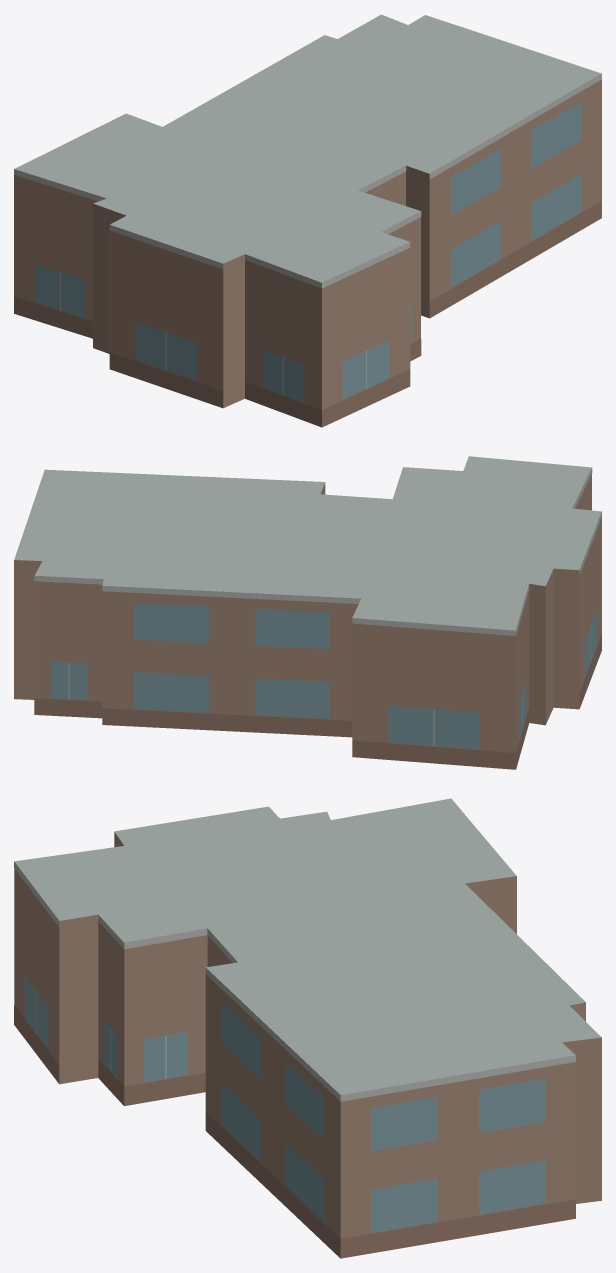
File: survey-upis-32848103.glb
3 renders of one model, top to bottom at view 1: azimuth 30°, elevation 25°; view 2: azimuth 150°, elevation 25°; view 3: azimuth 270°, elevation 25°, orthographic. The views are drawn at different scales.
Visible parts, largest first — view 1: survey-upis-32848103.tmp; view 2: survey-upis-32848103.tmp; view 3: survey-upis-32848103.tmp.
Part boxes in pixels (x1,y1,x2,y2): survey-upis-32848103.tmp: (14, 14, 601, 427); survey-upis-32848103.tmp: (14, 456, 601, 769); survey-upis-32848103.tmp: (14, 798, 601, 1258).
Bounding box in the file's own units: 23.79 × 6.1 × 19.91.
